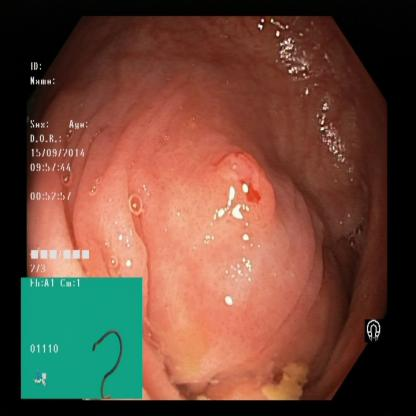Labels: (25, 56, 95, 278), (21, 280, 141, 398), (360, 312, 388, 346)
Polyps: (198, 143, 281, 248)
